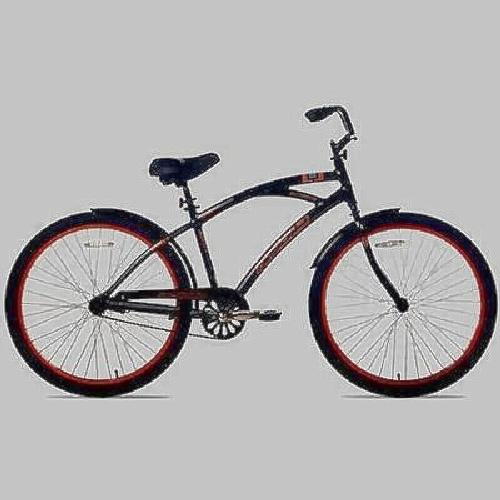bicycle: (21, 139, 489, 396)
